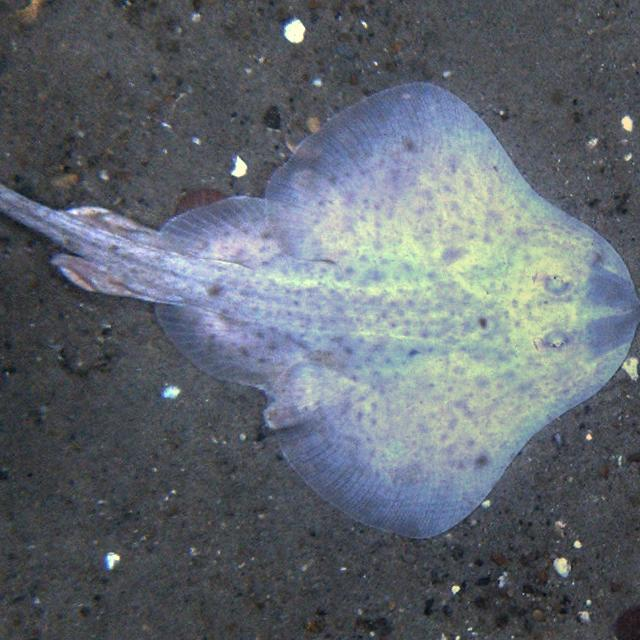skate: (5, 81, 614, 533)
